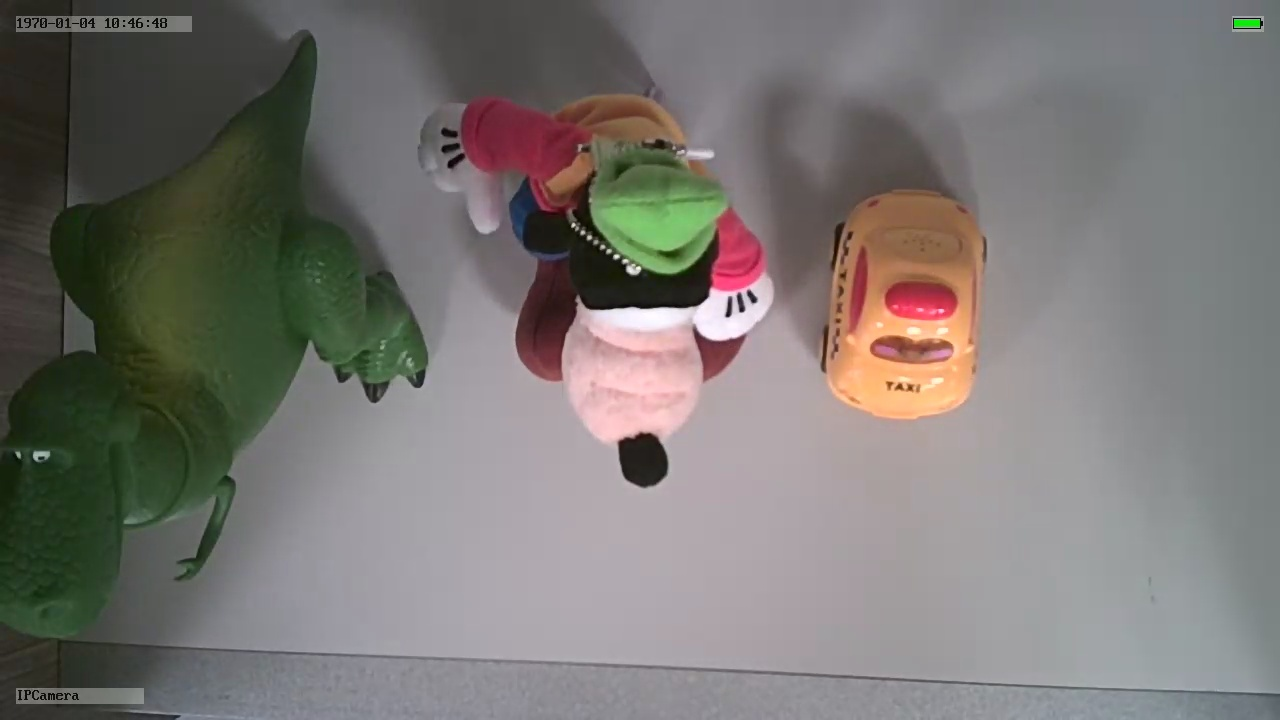car: (816, 181, 991, 424)
goofy: (411, 90, 779, 485)
rex: (1, 141, 427, 641)
